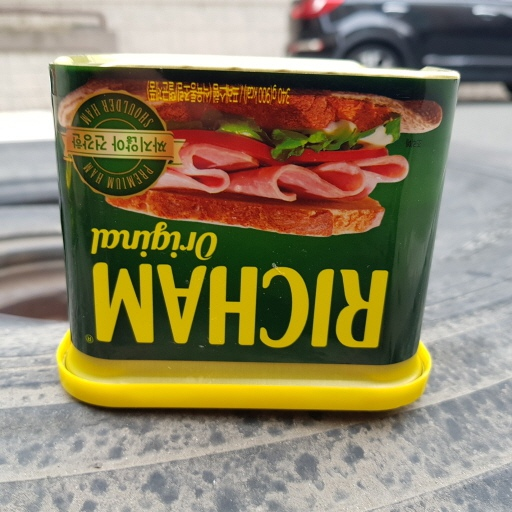Metal_2: (41, 49, 461, 410)
